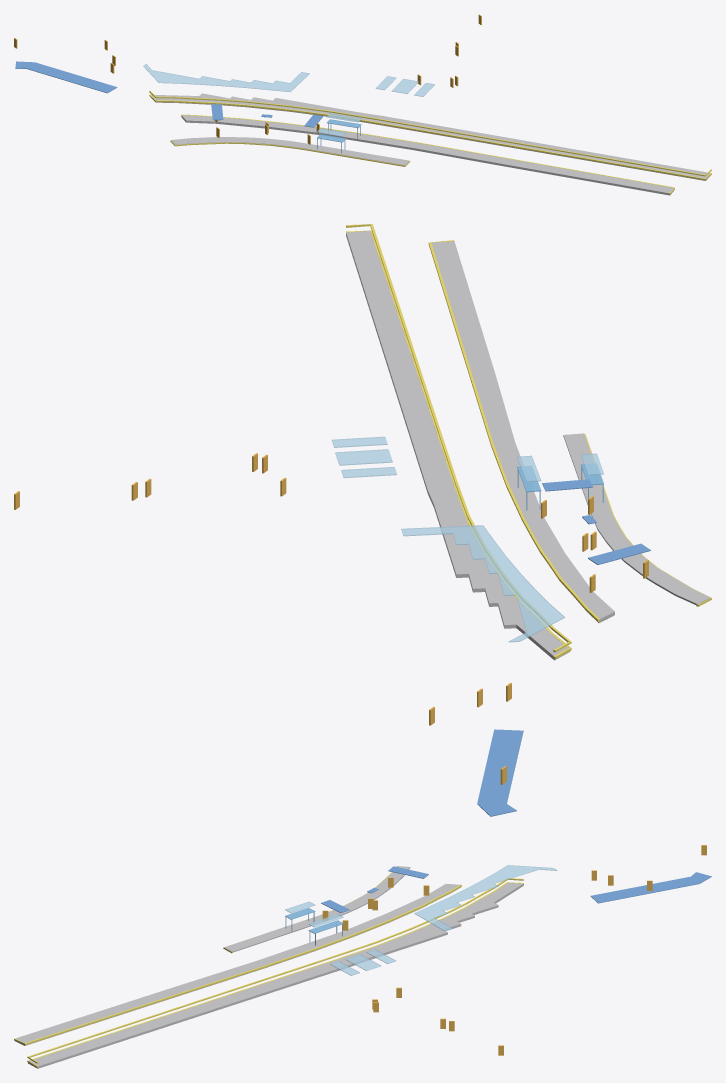
File: 8507068-bolligen.glb
3 views of the same model, one above another, from view 1: azimuth 30°, elevation 25°; view 2: azimuth 150°, elevation 25°; view 3: azimuth 270°, elevation 25° (orthographic). The views are drawn at different scales.
Parts seen in each view (by area): view 1: platform_surface@0, boarding_edge@0, roof@0, passage@-1, access_point@0, shelter@0, passage@1; view 2: platform_surface@0, roof@0, boarding_edge@0, passage@-1, access_point@0, passage@1, shelter@0; view 3: platform_surface@0, boarding_edge@0, roof@0, passage@-1, access_point@0, shelter@0, passage@1.
Part boxes in pixels (bbox=[...]): platform_surface@0: bbox=[150, 93, 709, 195]; boarding_edge@0: bbox=[149, 91, 711, 194]; roof@0: bbox=[143, 64, 434, 136]; passage@-1: bbox=[15, 61, 117, 93]; access_point@0: bbox=[14, 14, 481, 144]; shelter@0: bbox=[317, 119, 361, 153]; passage@1: bbox=[211, 104, 322, 127]; platform_surface@0: bbox=[346, 231, 710, 660]; roof@0: bbox=[331, 436, 603, 642]; boarding_edge@0: bbox=[346, 224, 711, 659]; passage@-1: bbox=[477, 729, 523, 816]; access_point@0: bbox=[14, 453, 648, 784]; passage@1: bbox=[542, 479, 650, 564]; shelter@0: bbox=[517, 464, 603, 510]; platform_surface@0: bbox=[15, 866, 523, 1068]; boarding_edge@0: bbox=[14, 866, 523, 1067]; roof@0: bbox=[285, 865, 557, 975]; passage@-1: bbox=[590, 872, 711, 903]; access_point@0: bbox=[322, 845, 706, 1055]; shelter@0: bbox=[285, 908, 343, 945]; passage@1: bbox=[321, 866, 428, 912].
Size of the model in its own units: 108 by 9.12 by 149.
